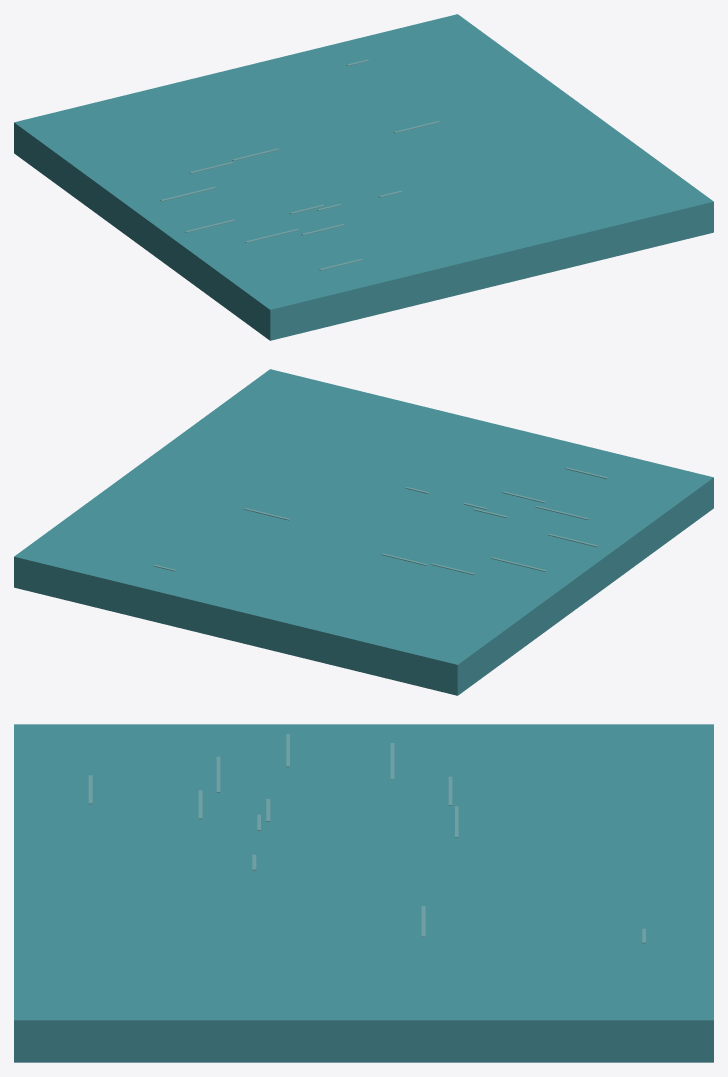
File: river-tile.glb
3 renders of one model, top to bottom at view 1: azimuth 30°, elevation 25°; view 2: azimuth 150°, elevation 25°; view 3: azimuth 270°, elevation 25°, orthographic. The views are drawn at different scales.
Visible parts, largest first — view 1: river-tile; view 2: river-tile; view 3: river-tile.
Part boxes in pixels (x1,y1,x2,y2): river-tile: [14, 14, 713, 340]; river-tile: [14, 369, 713, 695]; river-tile: [14, 724, 713, 1062].
Bounding box in the file's own units: 12 × 0.821 × 12.
